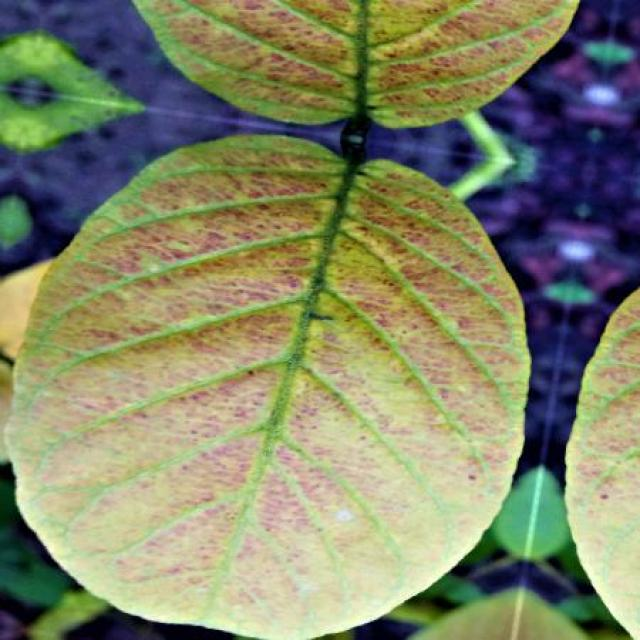Red Rust: (8, 136, 529, 640), (135, 1, 578, 128), (565, 289, 640, 639)
